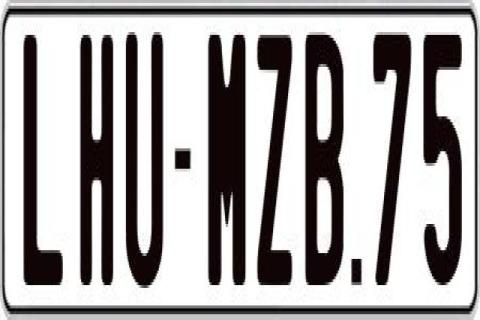0: (420, 35, 462, 303), (373, 29, 413, 294)
B: (303, 32, 348, 285)
H: (78, 29, 116, 291)
L: (22, 26, 64, 291)
M: (207, 26, 248, 294)
U: (125, 32, 168, 288)
Z: (255, 32, 293, 285)
